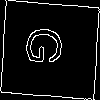G: (25, 25, 72, 68)
